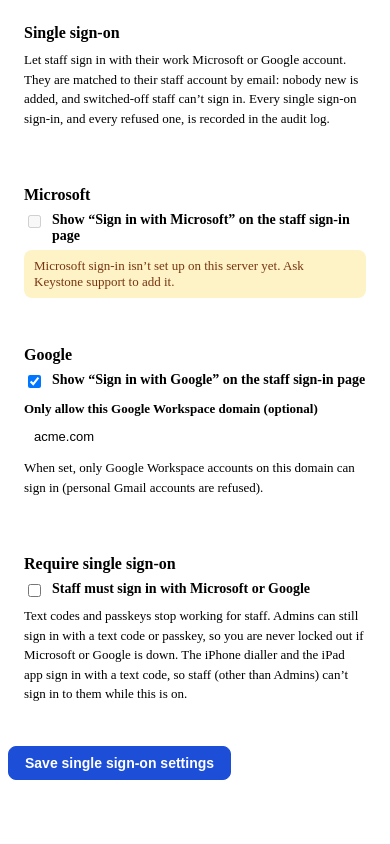
Scenario: Single sign-on tab › shows the server's refusal
Step 1. Click the button "Save single sign-on settings" → click(120, 762), box [8,746,231,780]
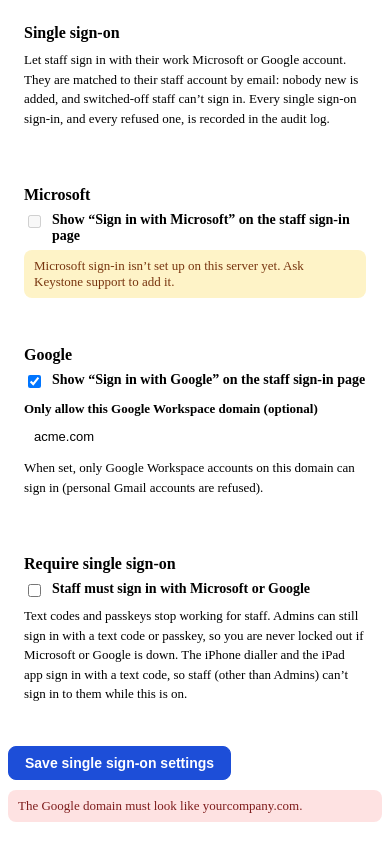
Now the message reads "The Google domain must look like yourcompany.com.", box [18,798,302,812]
